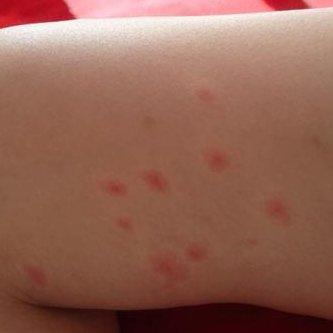Fleas: (18, 256, 53, 293), (200, 141, 234, 175), (138, 163, 171, 198), (150, 253, 187, 284), (183, 233, 211, 264), (99, 171, 127, 200), (264, 195, 288, 225), (114, 216, 133, 232)
